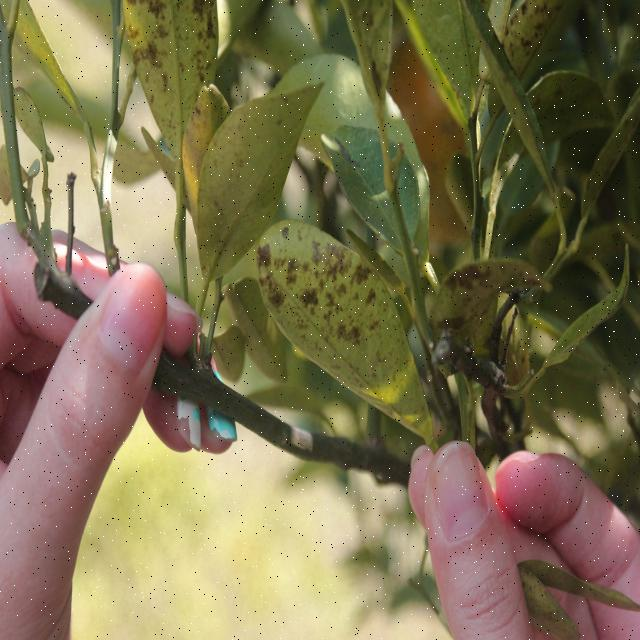melanose: (256, 210, 418, 435), (119, 0, 227, 163), (421, 244, 547, 342), (484, 0, 556, 116)
